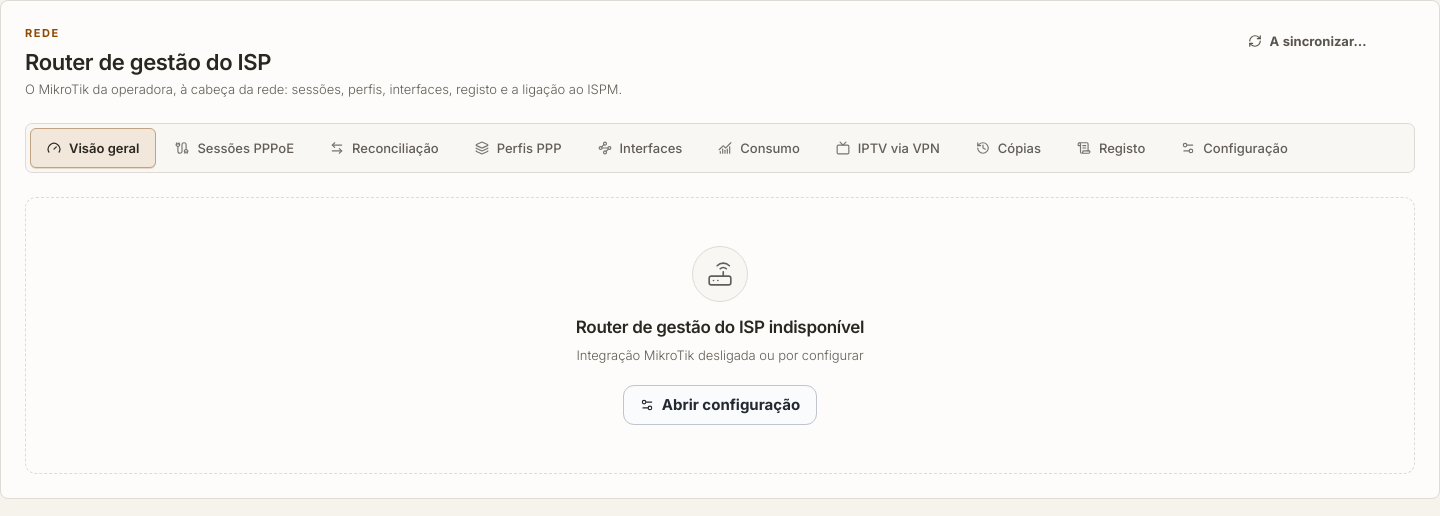
Router de gestão › router por configurar é um estado vazio que leva à configuração, não um erro
Expected: the text with class "empty-state-title" reads "Router de gestão do ISP indisponível", [576,318,864,338]
Step 1. Click the button "Abrir configuração" → [720, 405], box [623,385,817,425]
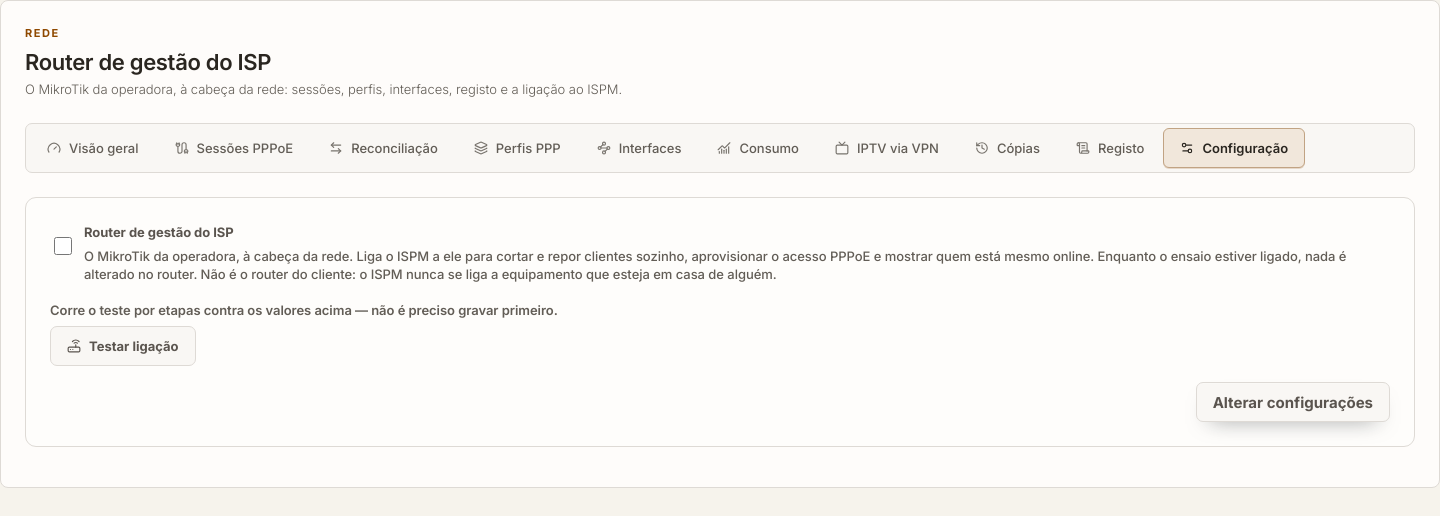
Now the panel with id "router-panel-config" is shown, box [25,198,1415,448]
